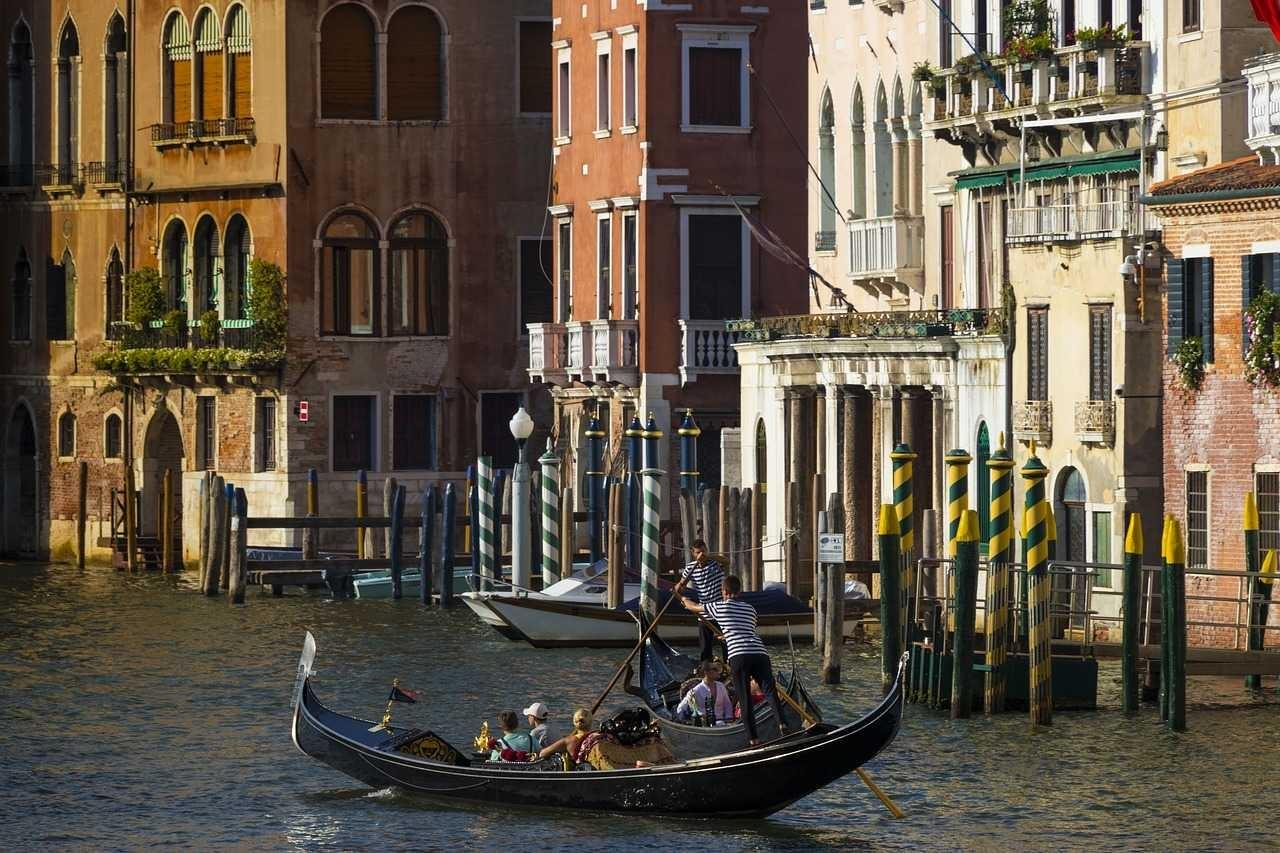kayak: (285, 628, 908, 812), (467, 559, 652, 648)
